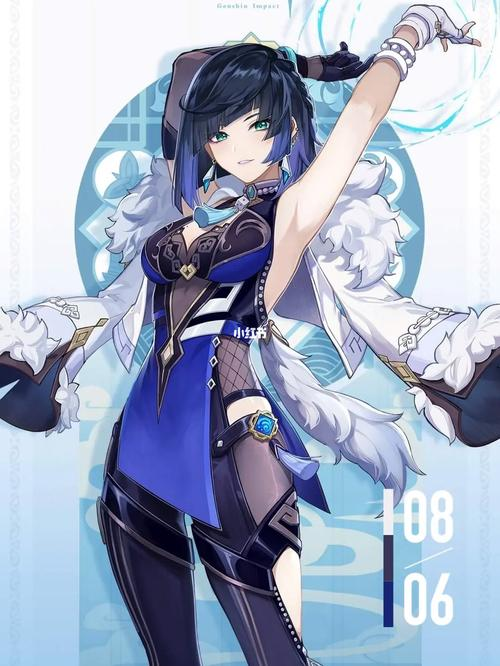夜兰: (99, 4, 486, 665)
